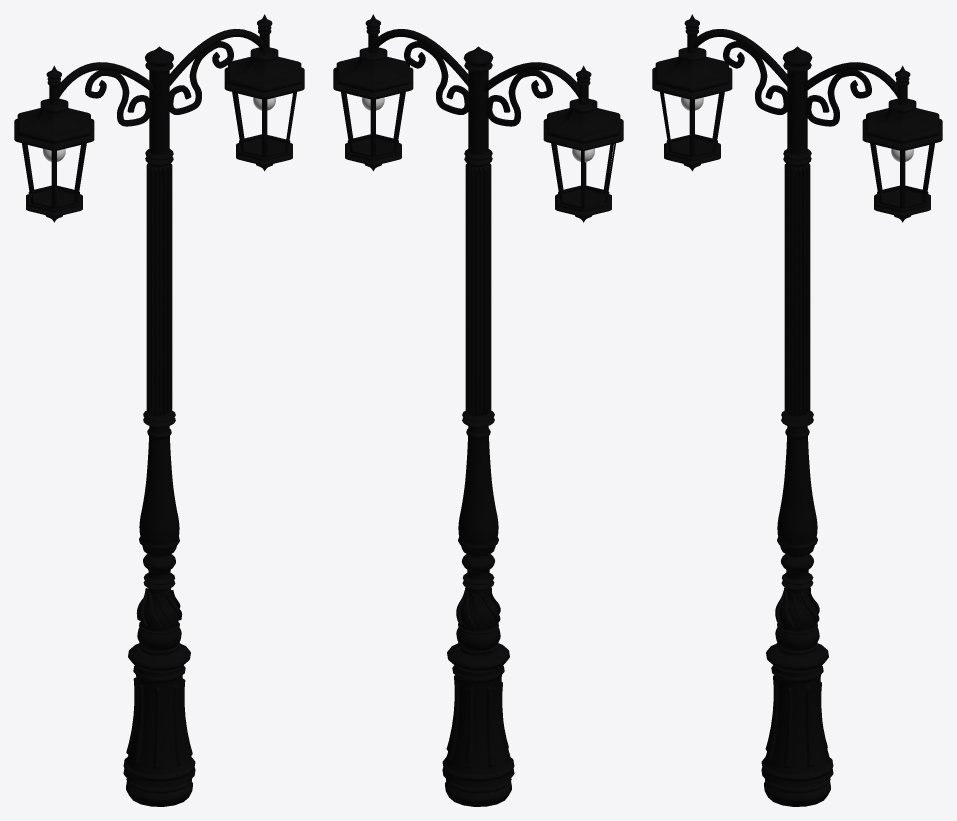
Rendered from post_double_classic.fbx.
3 views of the same model, side by side, from view 1: azimuth 30°, elevation 25°; view 2: azimuth 150°, elevation 25°; view 3: azimuth 330°, elevation 25° (orthographic).
Parts seen in each view (by area): view 1: classic dual light pole 001; view 2: classic dual light pole 001; view 3: classic dual light pole 001.
Part boxes in pixels (x1,y1,x2,y2): classic dual light pole 001: (14,14,304,806); classic dual light pole 001: (333,14,623,806); classic dual light pole 001: (652,14,942,806).
Bounding box in the file's own units: 165 × 412 × 39.43.
Materials: 3 (3 with a texture image).
